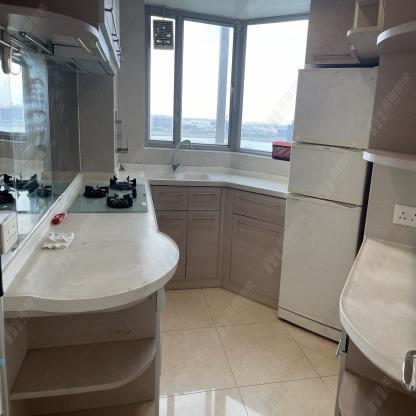Cupboard: (152, 183, 285, 308)
Exhaust Fan: (152, 19, 174, 51)
Exhaust Hood: (11, 27, 117, 75)
Faucet: (171, 137, 194, 173)
Fridge: (276, 67, 379, 349), (277, 68, 380, 345)
Stove: (64, 173, 150, 222), (67, 174, 149, 214)
